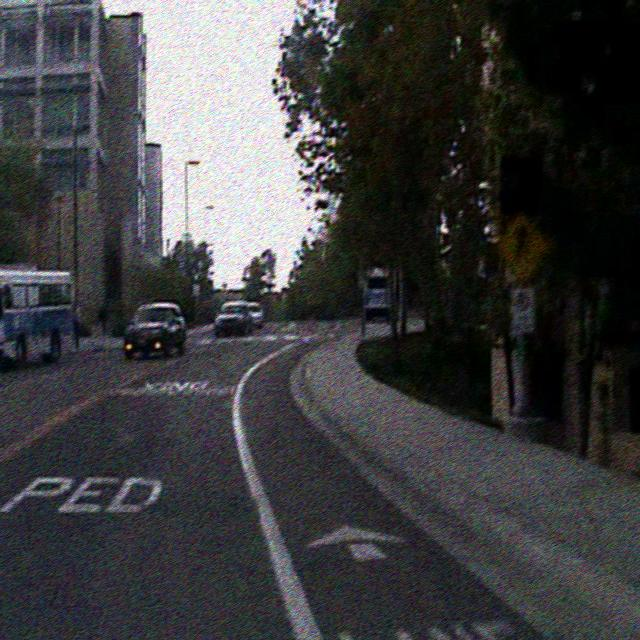pedestrianCrossing: (495, 208, 547, 284)
